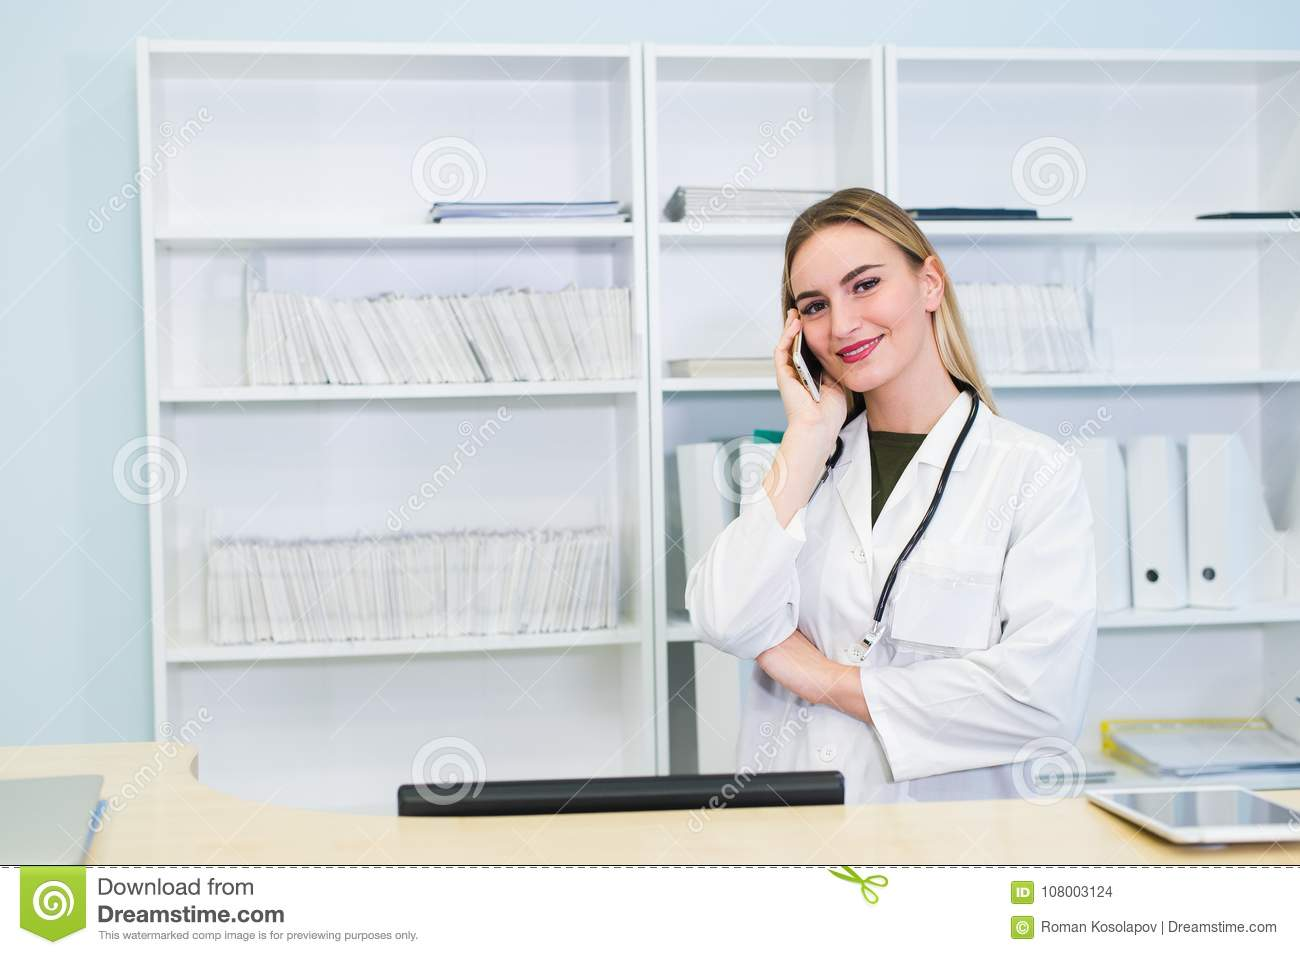phone: (791, 321, 827, 404)
talk: (771, 253, 898, 440)
